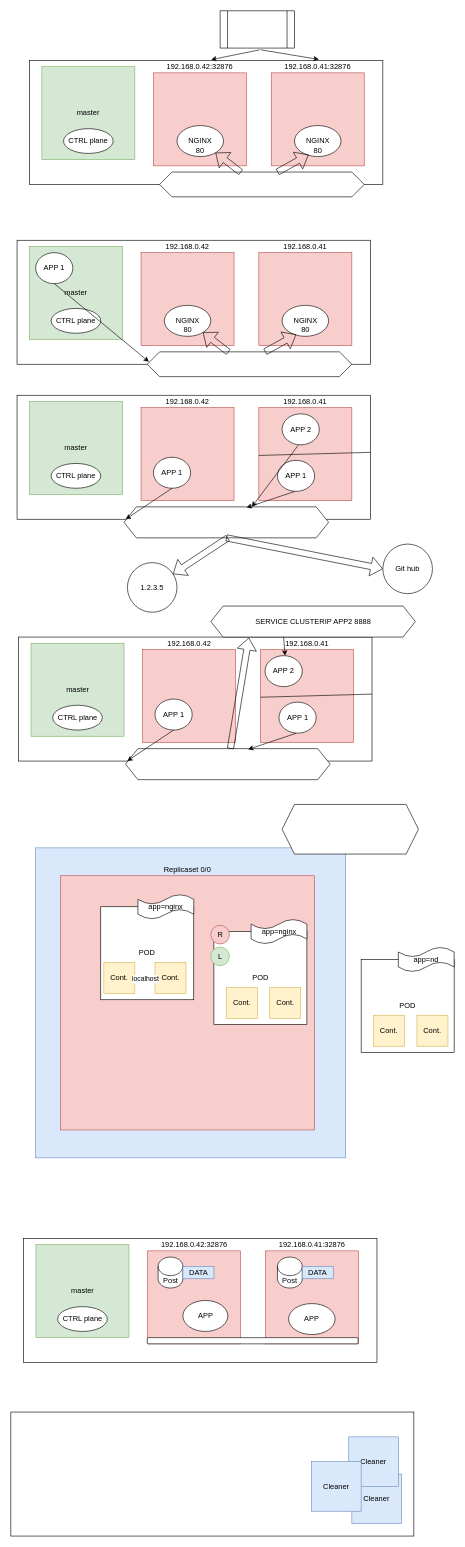
Image size: 465x1547. Some labels were removed from this diagram. The shapes that lost their labels are listed below. From the top down, each one's box as (x1, y1, x2, y2) in pixels, then its label:
(219, 10, 294, 48): LB
(159, 171, 364, 197): SERVICE NODEPORT 32876 = 8888
(147, 351, 352, 377): SERVICE CLUSTERIP 8888
(123, 506, 329, 538): SERVICE ExternalName github.com/api/v2 SERVICE ExternalIP 1.2.3.5
(125, 748, 330, 780): SERVICE ExternalName app2.ns2.svc.cluster.local
(281, 804, 418, 854): SERVICE app=nginx
(35, 847, 346, 1158): DEPLOYMENT
(10, 1411, 414, 1536): CRON JOB @hourly
